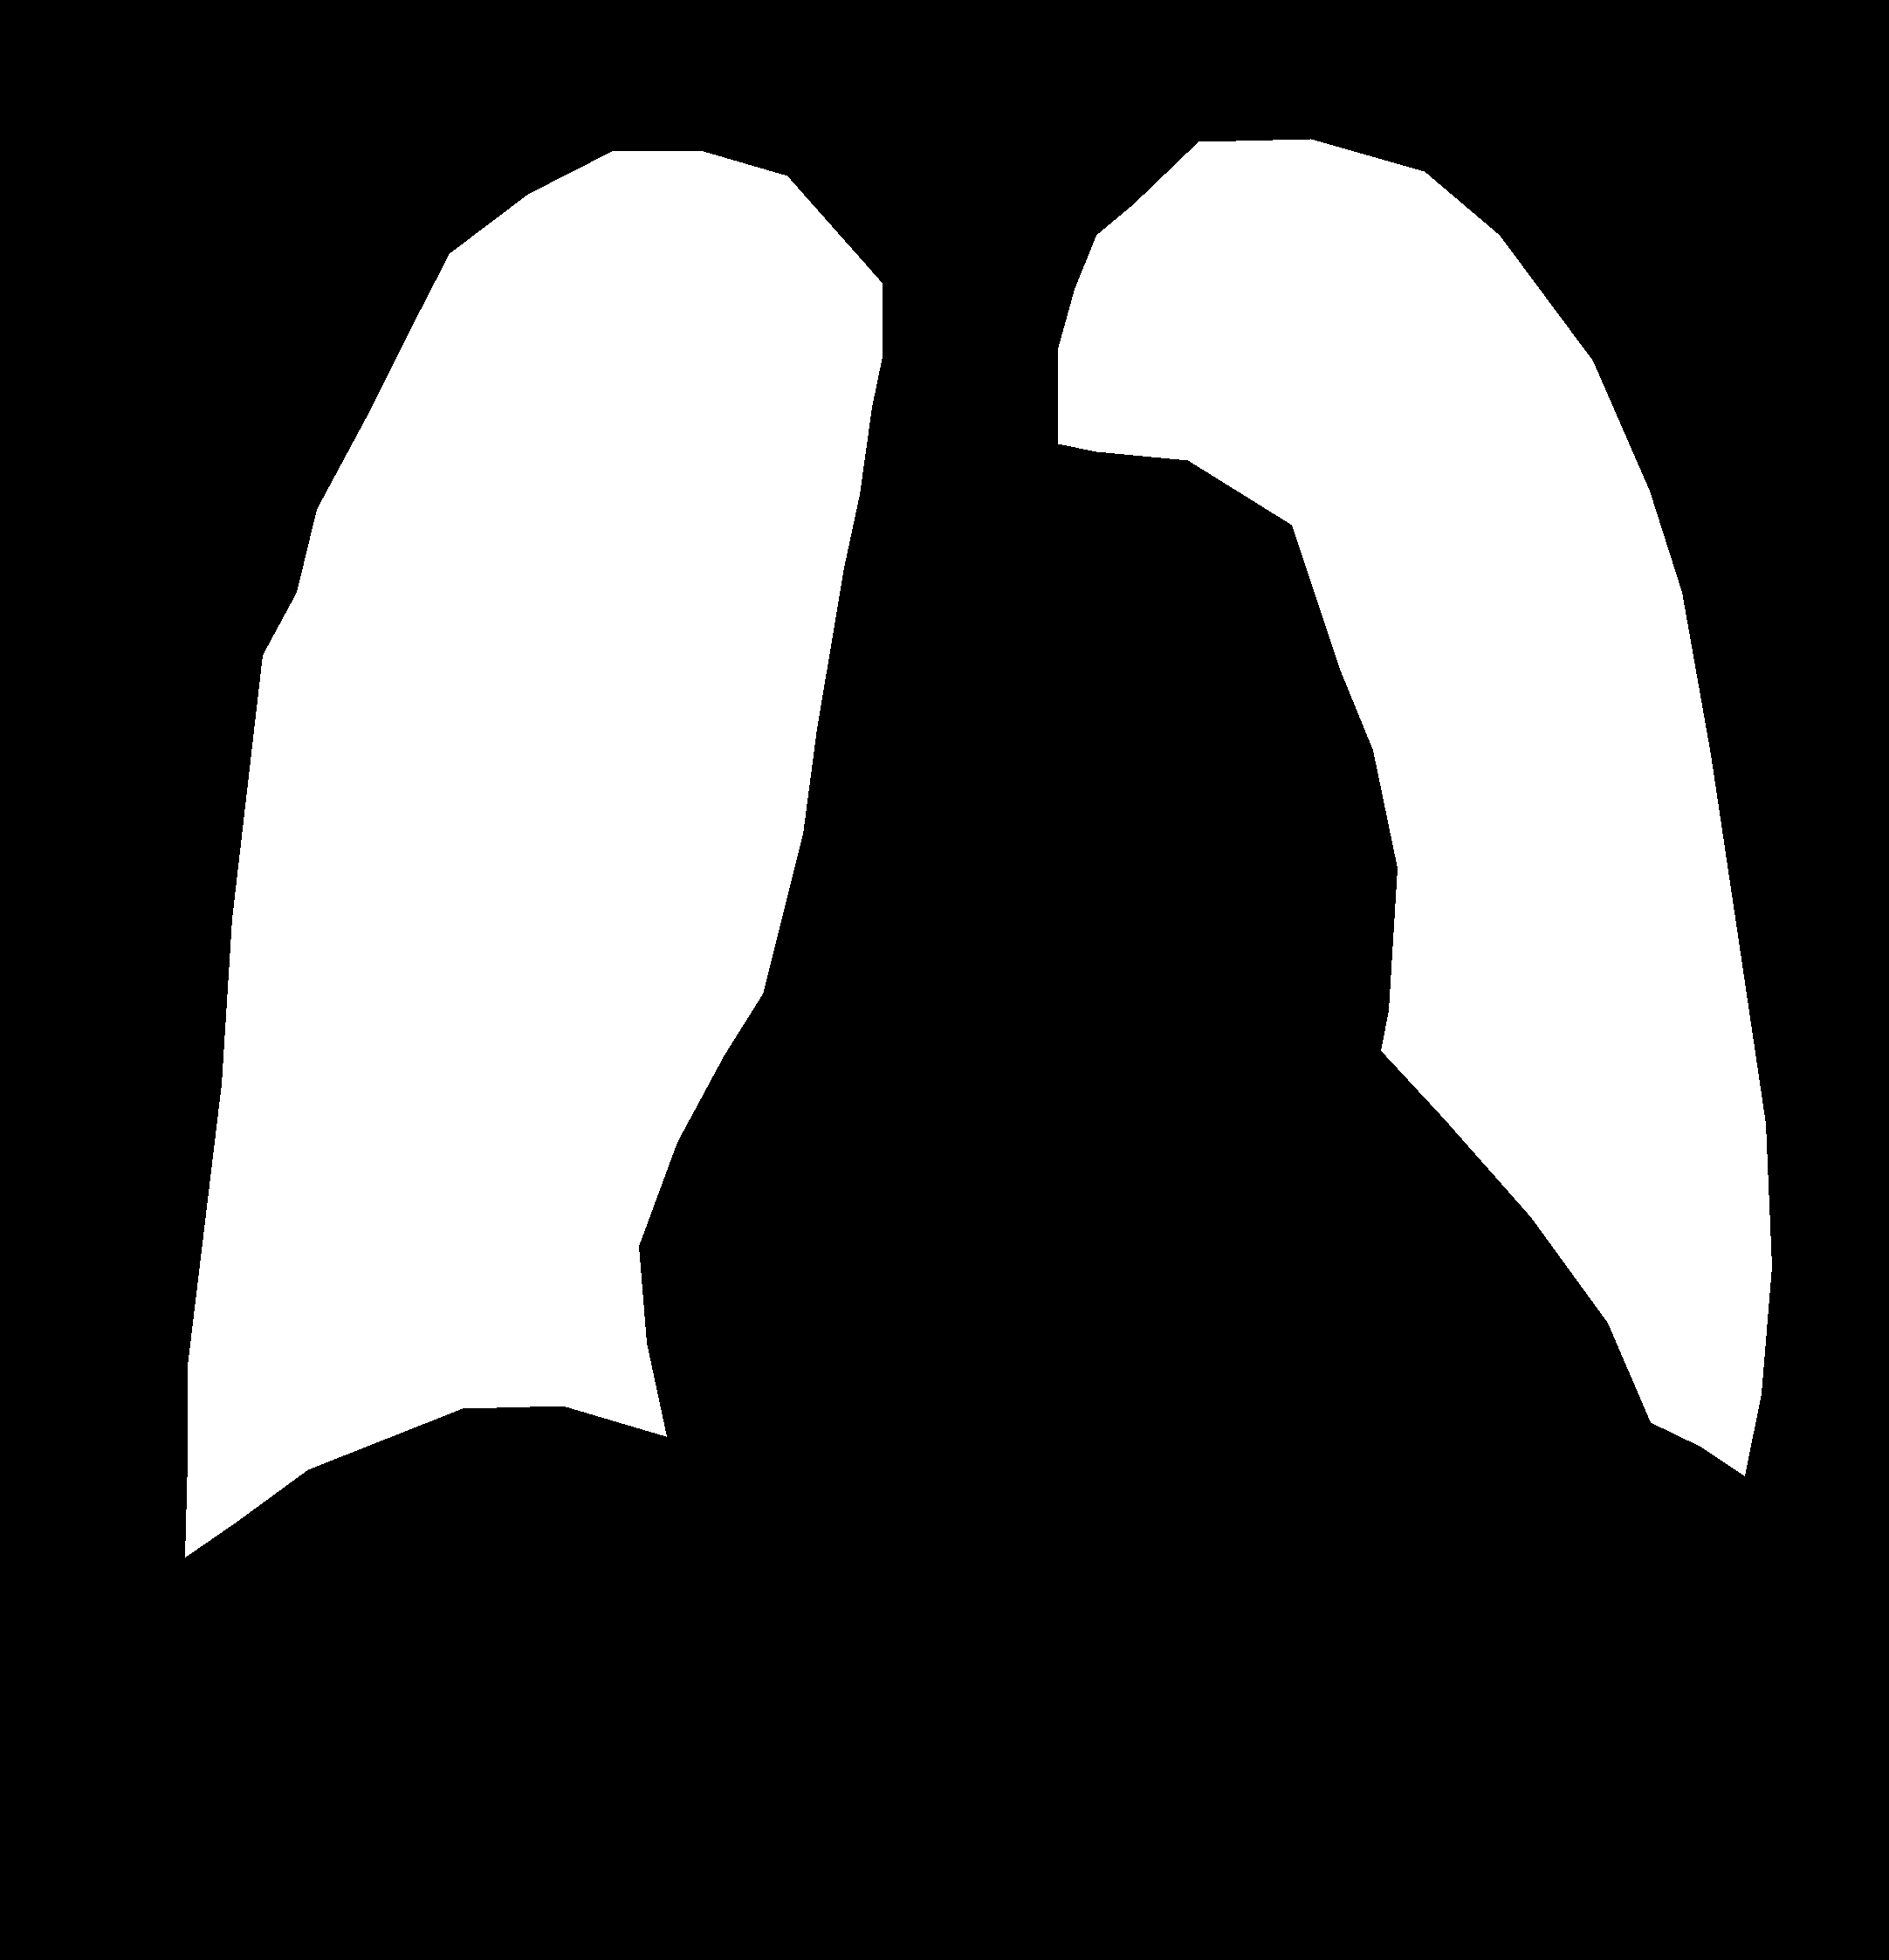heart: (647, 703, 1637, 1493)
left_lung: (185, 150, 882, 1557)
right_lung: (1058, 138, 1772, 1475)
